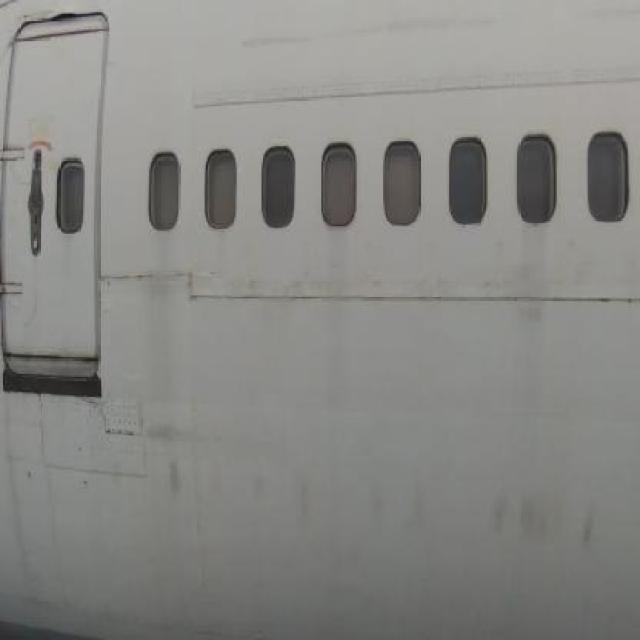Scartch: (235, 8, 500, 59), (480, 474, 608, 577), (143, 405, 219, 509), (244, 452, 322, 552), (361, 469, 434, 553), (584, 0, 640, 33)
